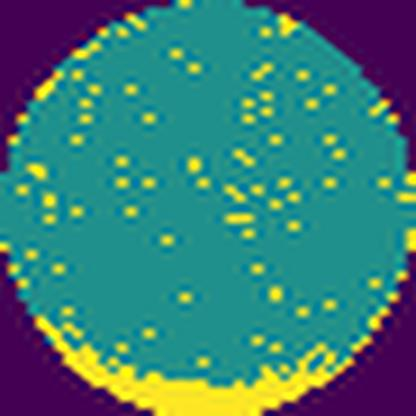Edge-Loc: (31, 309, 356, 416)
